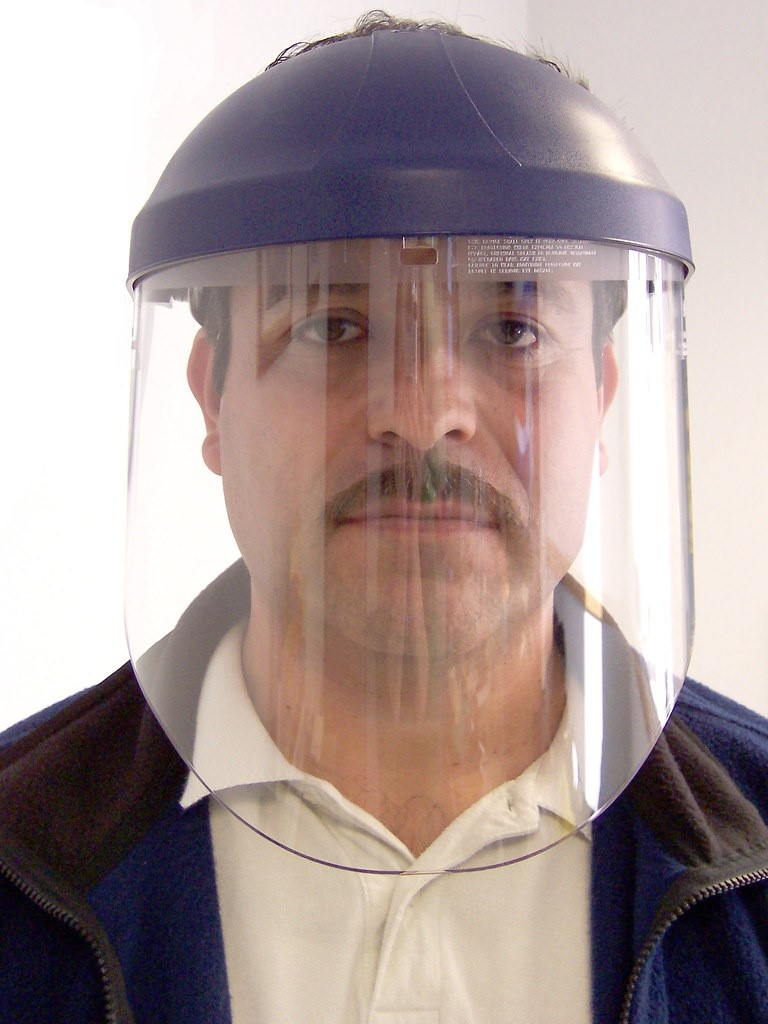face_no_mask: (188, 200, 613, 687)
